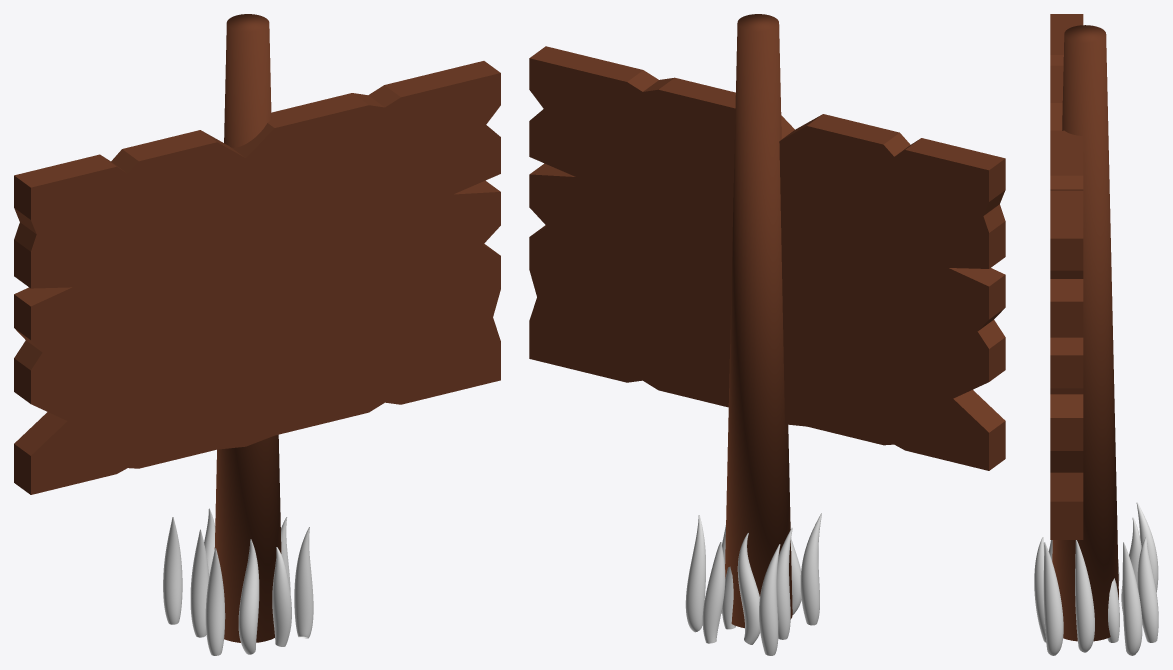
Rendered from Schild_mit_Gras_Weiß.fbx.
The picture shows the model from 3 angles, left to right: view 1: azimuth 30°, elevation 25°; view 2: azimuth 150°, elevation 25°; view 3: azimuth 270°, elevation 25°; orthographic projection. The views are drawn at different scales.
Visible parts, largest first — view 1: Circle.006, NurbsPath.001; view 2: Circle.006, NurbsPath.001; view 3: Circle.006, NurbsPath.001.
Boxes of the visible parts, x1,y1,x2,y2 form: Circle.006: (14, 14, 500, 642); NurbsPath.001: (163, 508, 313, 655); Circle.006: (529, 14, 1005, 628); NurbsPath.001: (685, 513, 821, 655); Circle.006: (1050, 14, 1118, 641); NurbsPath.001: (1034, 502, 1158, 655).
Size of the model in its own units: 124 by 155 by 29.11.
